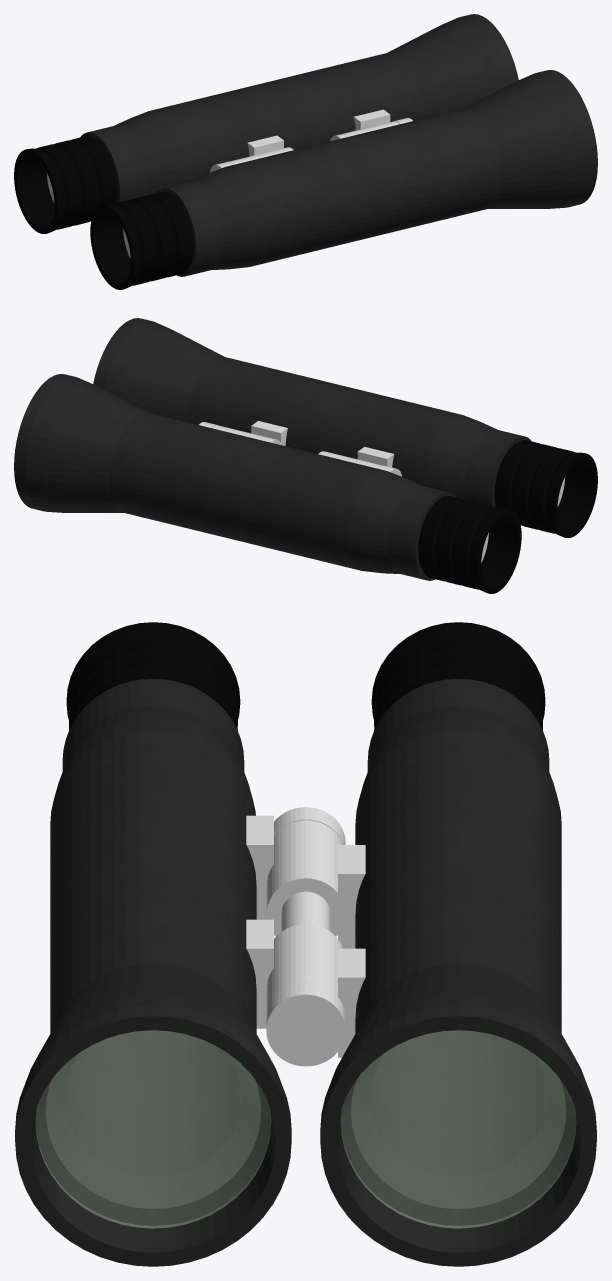
The model's file is Others_Binocular__0001.glb.
3 views of the same model, one above another, from view 1: azimuth 30°, elevation 25°; view 2: azimuth 150°, elevation 25°; view 3: azimuth 270°, elevation 25° (orthographic). The views are drawn at different scales.
Parts seen in each view (by area): view 1: right_barrel::barrel_body, left_barrel::barrel_body, eyecup_collar_1::collar, eyecup_collar_0::collar, left_barrel::front_hinge_arm, left_barrel::rear_hinge_arm; view 2: left_barrel::barrel_body, right_barrel::barrel_body, eyecup_collar_0::collar, eyecup_collar_1::collar, right_barrel::front_hinge_arm, right_barrel::rear_hinge_arm; view 3: right_barrel::barrel_body, left_barrel::barrel_body, left_barrel::objective_lens, right_barrel::objective_lens, eyecup_collar_0::collar, eyecup_collar_1::collar, hinge_bridge::front_hinge_cap, left_barrel::rear_hinge_sleeve, left_barrel::rear_hinge_arm, left_barrel::front_hinge_sleeve, right_barrel::front_hinge_arm, right_barrel::rear_hinge_arm (+5 smaller).
Boxes of the visible parts, x1,y1,x2,y2 form: right_barrel::barrel_body: (157, 70, 597, 276); left_barrel::barrel_body: (80, 14, 518, 202); eyecup_collar_1::collar: (90, 192, 193, 289); eyecup_collar_0::collar: (14, 136, 117, 233); left_barrel::front_hinge_arm: (354, 109, 390, 130); left_barrel::rear_hinge_arm: (247, 135, 283, 156); left_barrel::barrel_body: (14, 374, 454, 580); right_barrel::barrel_body: (93, 318, 531, 506); eyecup_collar_0::collar: (418, 496, 521, 593); eyecup_collar_1::collar: (494, 440, 597, 537); right_barrel::front_hinge_arm: (251, 421, 287, 445); right_barrel::rear_hinge_arm: (357, 446, 394, 467); right_barrel::barrel_body: (15, 678, 291, 1266); left_barrel::barrel_body: (320, 678, 596, 1266); left_barrel::objective_lens: (341, 1030, 575, 1228); right_barrel::objective_lens: (36, 1030, 270, 1228); eyecup_collar_0::collar: (371, 622, 545, 730); eyecup_collar_1::collar: (66, 622, 240, 730); hinge_bridge::front_hinge_cap: (266, 982, 345, 1066); left_barrel::rear_hinge_sleeve: (266, 849, 345, 936); left_barrel::rear_hinge_arm: (338, 845, 365, 948); left_barrel::front_hinge_sleeve: (266, 953, 337, 1012); right_barrel::front_hinge_arm: (246, 919, 273, 1028); right_barrel::rear_hinge_arm: (246, 815, 273, 919).
Size of the model in its own units: 0.2123 by 0.0563 by 0.1185.
5 materials, 1 textured.
